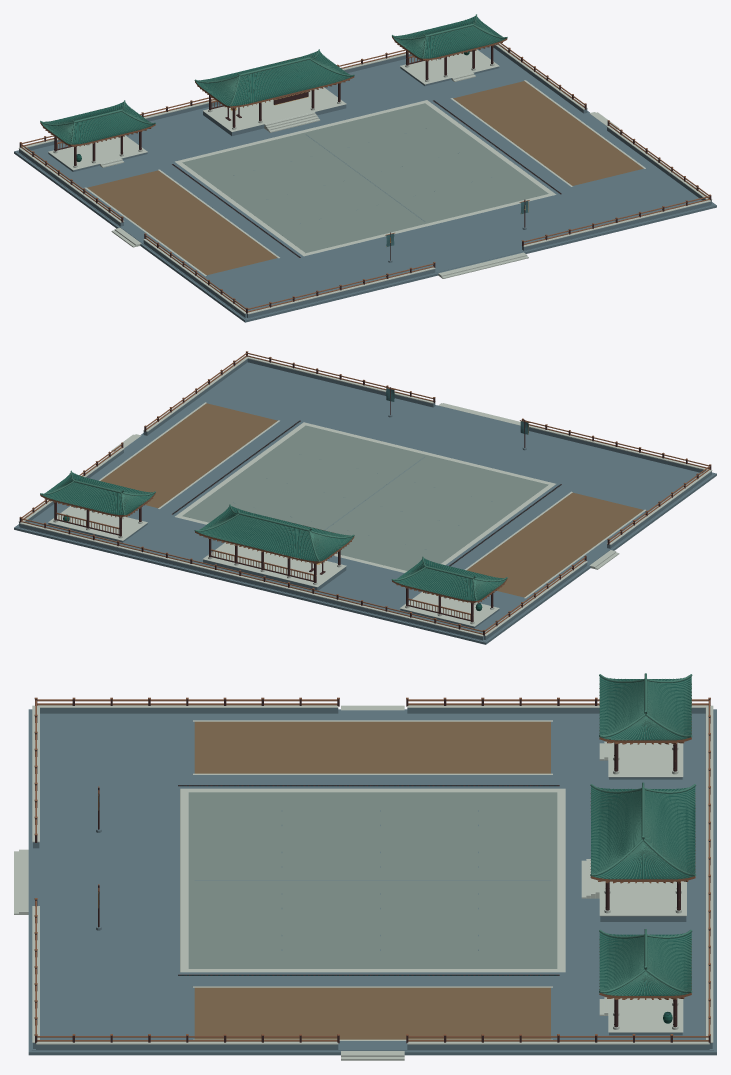
File: martial_training_ground.glb
3 views of the same model, one above another, from view 1: azimuth 30°, elevation 25°; view 2: azimuth 150°, elevation 25°; view 3: azimuth 270°, elevation 25° (orthographic). The views are drawn at different scales.
Parts seen in each view (by area): view 1: Training_Paving, Training_CourtPaving, Training_PackedEarth, martial_training_ground_Coping, martial_training_ground_Jade, martial_training_ground_TileLight, martial_training_ground_Stone, martial_training_ground_Cedar, martial_training_ground_Timber; view 2: Training_Paving, Training_CourtPaving, Training_PackedEarth, martial_training_ground_Coping, martial_training_ground_Stone, martial_training_ground_Jade, martial_training_ground_TileLight, martial_training_ground_Cedar, martial_training_ground_Timber; view 3: Training_Paving, Training_CourtPaving, Training_PackedEarth, martial_training_ground_Coping, martial_training_ground_TileLight, martial_training_ground_Jade, martial_training_ground_Stone, martial_training_ground_Cedar, martial_training_ground_Timber, Training_Joint.
Boxes of the visible parts, <box> form: Training_Paving: <box>17,46,713,319</box>; Training_CourtPaving: <box>182,103,548,252</box>; Training_PackedEarth: <box>87,81,643,275</box>; martial_training_ground_Coping: <box>18,43,712,314</box>; martial_training_ground_Jade: <box>41,16,506,161</box>; martial_training_ground_TileLight: <box>40,14,507,144</box>; martial_training_ground_Stone: <box>14,45,716,322</box>; martial_training_ground_Cedar: <box>19,36,711,312</box>; martial_training_ground_Timber: <box>19,46,711,313</box>; Training_Paving: <box>17,362,713,641</box>; Training_CourtPaving: <box>182,425,548,570</box>; Training_PackedEarth: <box>100,403,643,597</box>; martial_training_ground_Coping: <box>18,356,712,636</box>; martial_training_ground_Stone: <box>14,359,716,644</box>; martial_training_ground_Jade: <box>41,472,506,610</box>; martial_training_ground_TileLight: <box>40,470,507,600</box>; martial_training_ground_Cedar: <box>19,351,711,634</box>; martial_training_ground_Timber: <box>19,352,711,635</box>; Training_Paving: <box>31,710,713,1050</box>; Training_CourtPaving: <box>188,792,557,968</box>; Training_PackedEarth: <box>194,721,550,1039</box>; martial_training_ground_Coping: <box>14,705,713,1060</box>; martial_training_ground_TileLight: <box>590,673,696,995</box>; martial_training_ground_Jade: <box>591,676,695,1023</box>; martial_training_ground_Stone: <box>28,708,716,1055</box>; martial_training_ground_Cedar: <box>34,684,710,1041</box>; martial_training_ground_Timber: <box>35,699,710,1043</box>; Training_Joint: <box>178,785,559,975</box>.
Size of the model in its own units: 68 by 6.73 by 57.2.
